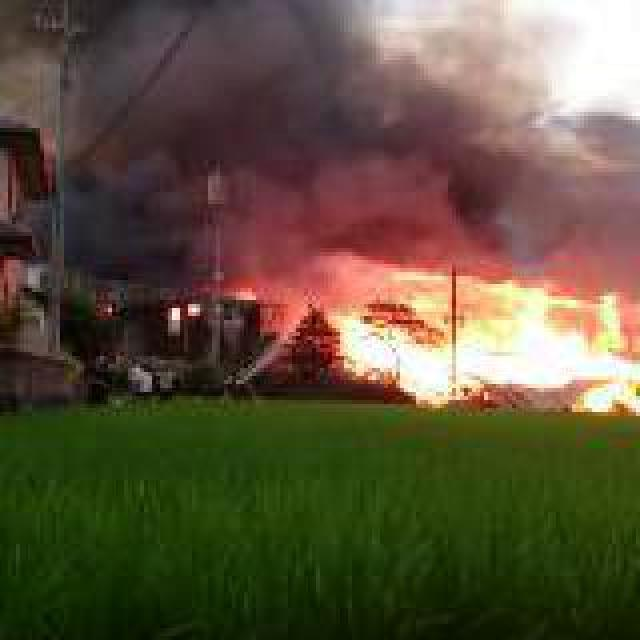smoke: (98, 0, 640, 290)
